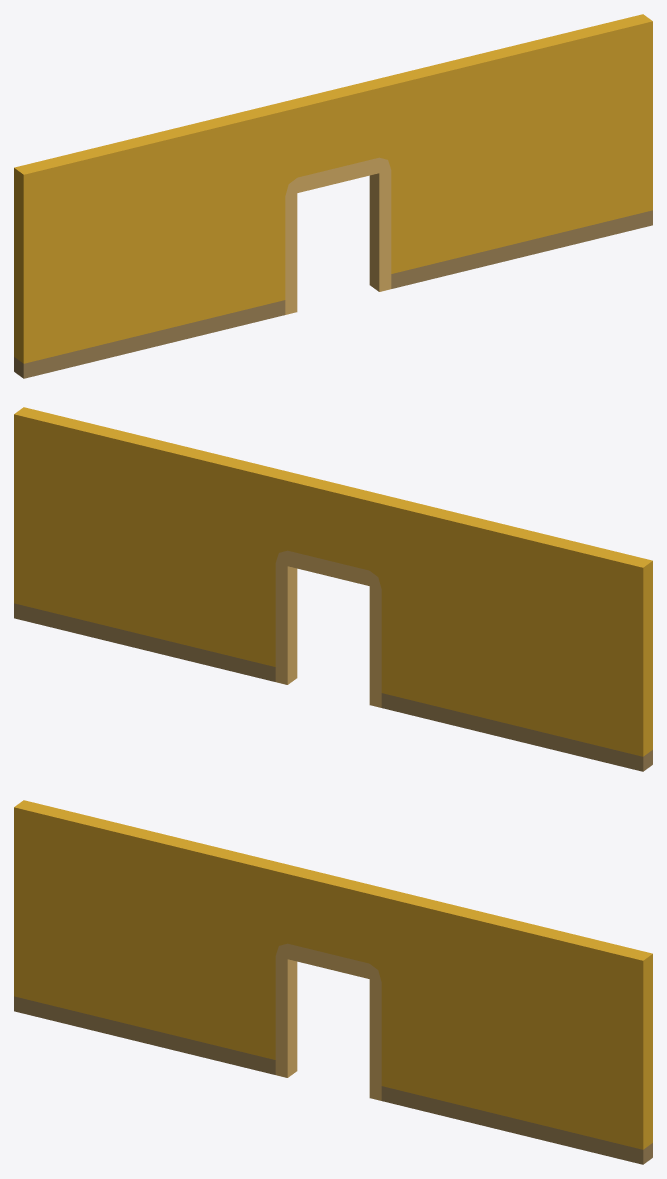
File: WallDoorGeo.fbx
3 views of the same model, one above another, from view 1: azimuth 30°, elevation 25°; view 2: azimuth 150°, elevation 25°; view 3: azimuth 330°, elevation 25° (orthographic).
Visible parts, largest first — view 1: WallDoorGeo; view 2: WallDoorGeo; view 3: WallDoorGeo.
Part boxes in pixels (bbox=[...]): WallDoorGeo: bbox=[14, 14, 652, 378]; WallDoorGeo: bbox=[14, 407, 652, 771]; WallDoorGeo: bbox=[14, 800, 652, 1164].
Bounding box in the file's own units: 1613 × 500 × 43.52.
